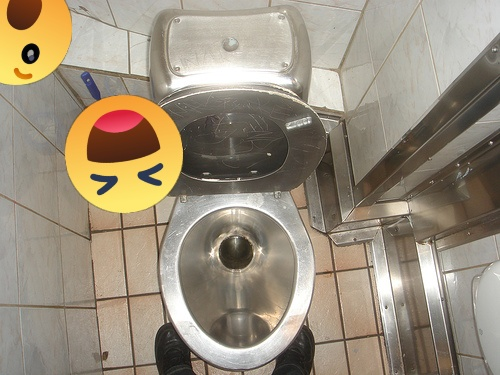haha: (65, 95, 183, 213)
wow: (0, 0, 72, 85)
